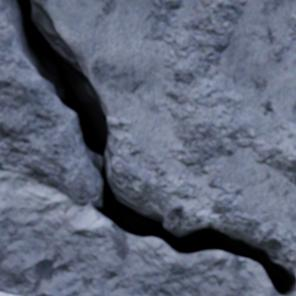brick: (0, 292, 16, 295)
broken_brick: (36, 0, 295, 269), (0, 3, 100, 206)
crack: (0, 0, 295, 295)
